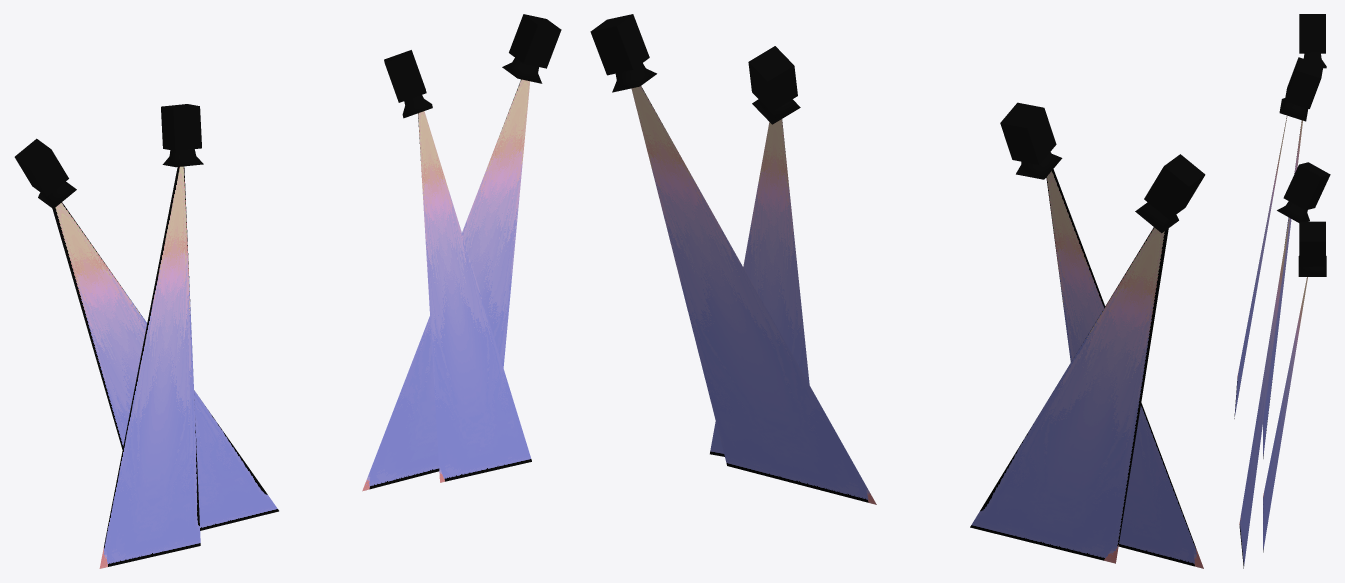
File: main_stage_animated_2.glb
3 views of the same model, side by side, from view 1: azimuth 30°, elevation 25°; view 2: azimuth 150°, elevation 25°; view 3: azimuth 270°, elevation 25° (orthographic). The views are drawn at different scales.
Parts seen in each view (by area): view 1: Cube.005; view 2: Cube.005; view 3: Cube.005.
Part boxes in pixels (left/top/right/bottom): Cube.005: left=14, top=14, right=561, bottom=568; Cube.005: left=590, top=14, right=1205, bottom=568; Cube.005: left=1234, top=14, right=1330, bottom=568.
Bounding box in the file's own units: 6.67 × 4.92 × 1.16.
2 materials, 2 textured.
